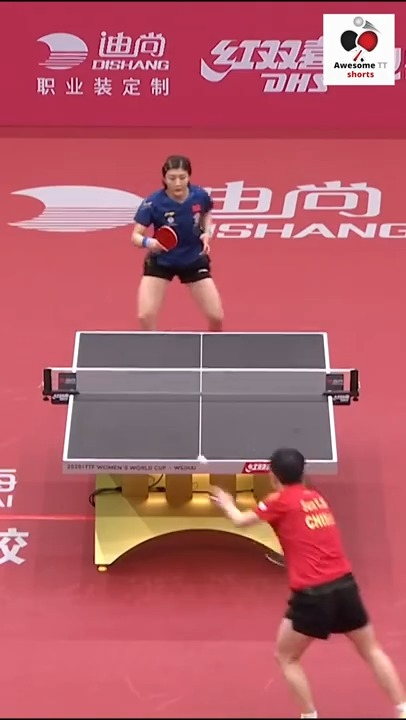Ball: (194, 454, 209, 462)
